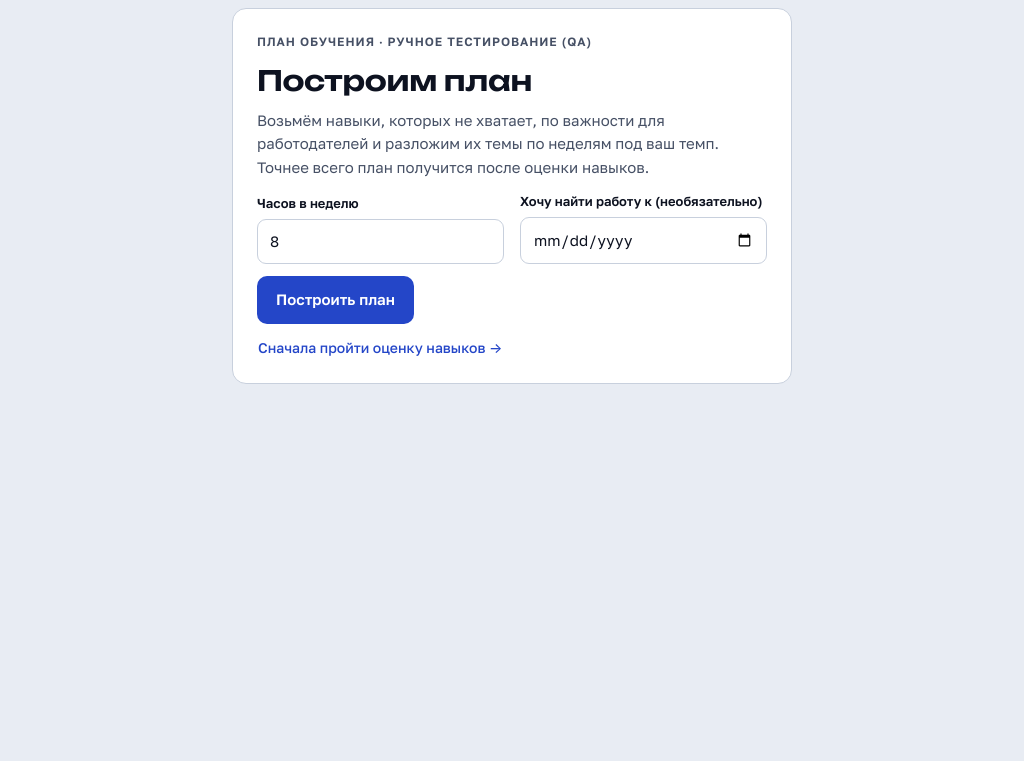
Test: PlanPage › плана нет — форма с часами из профиля строит план
Replace the text in the number field labelled "Часов в неделю" with "50" at point(380, 242), box x1=257 y1=219 x2=504 y2=264
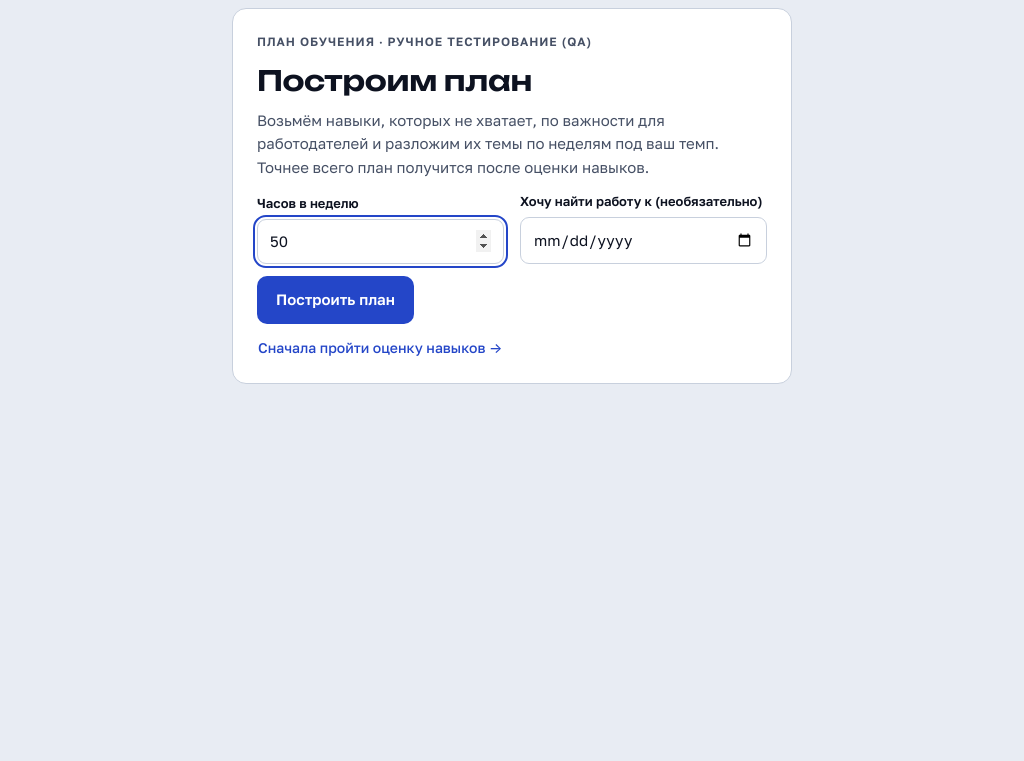
Click the button "Построить план".
click(335, 300)  # box x1=257 y1=276 x2=414 y2=324
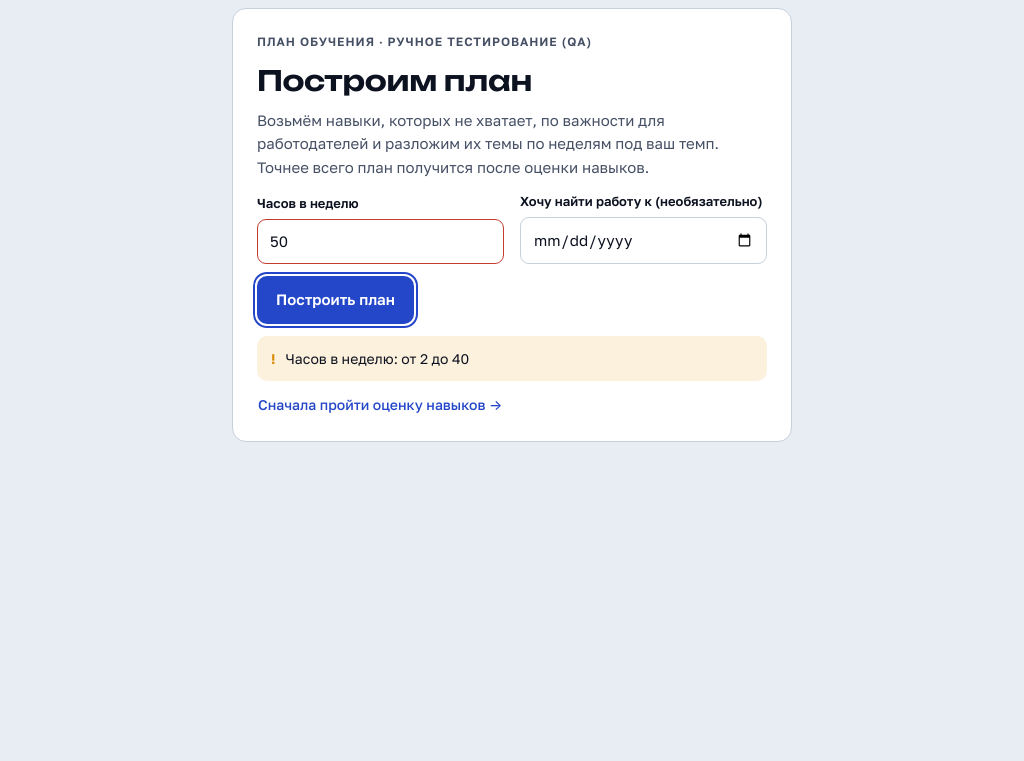
Check: the message shows "от 2 до 40", box x1=286 y1=350 x2=469 y2=367
Replace the text in the number field labelled "Часов в неделю" with "12" at point(380, 242), box x1=257 y1=219 x2=504 y2=264
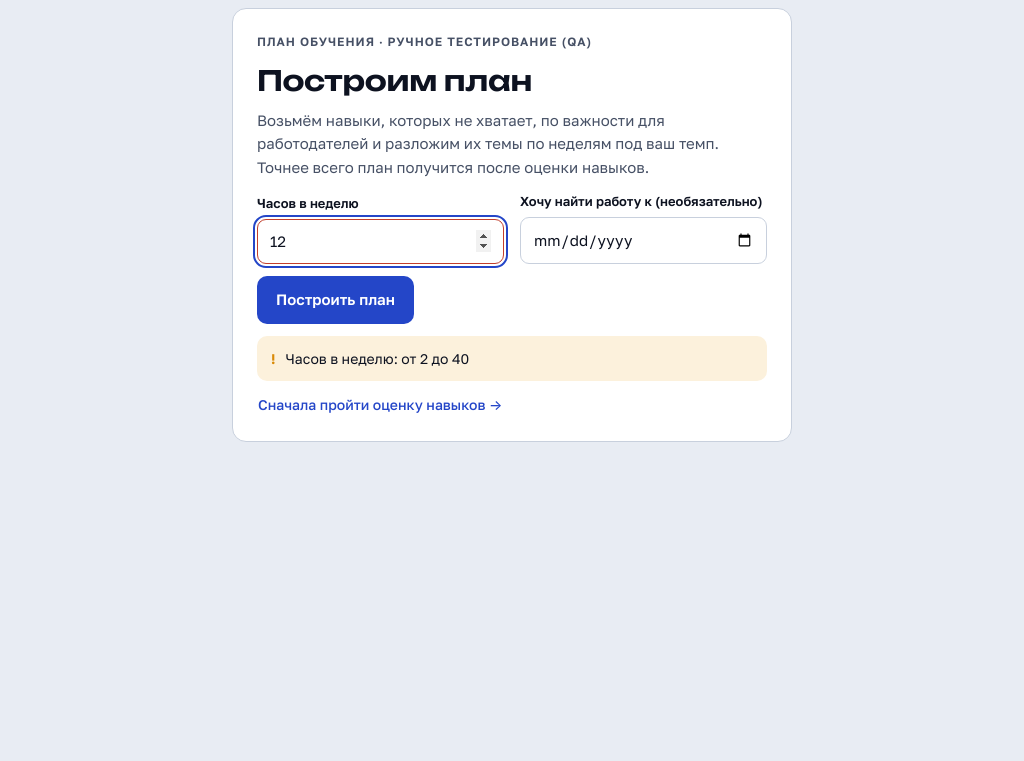
Click the button "Построить план".
click(335, 300)  # box x1=257 y1=276 x2=414 y2=324
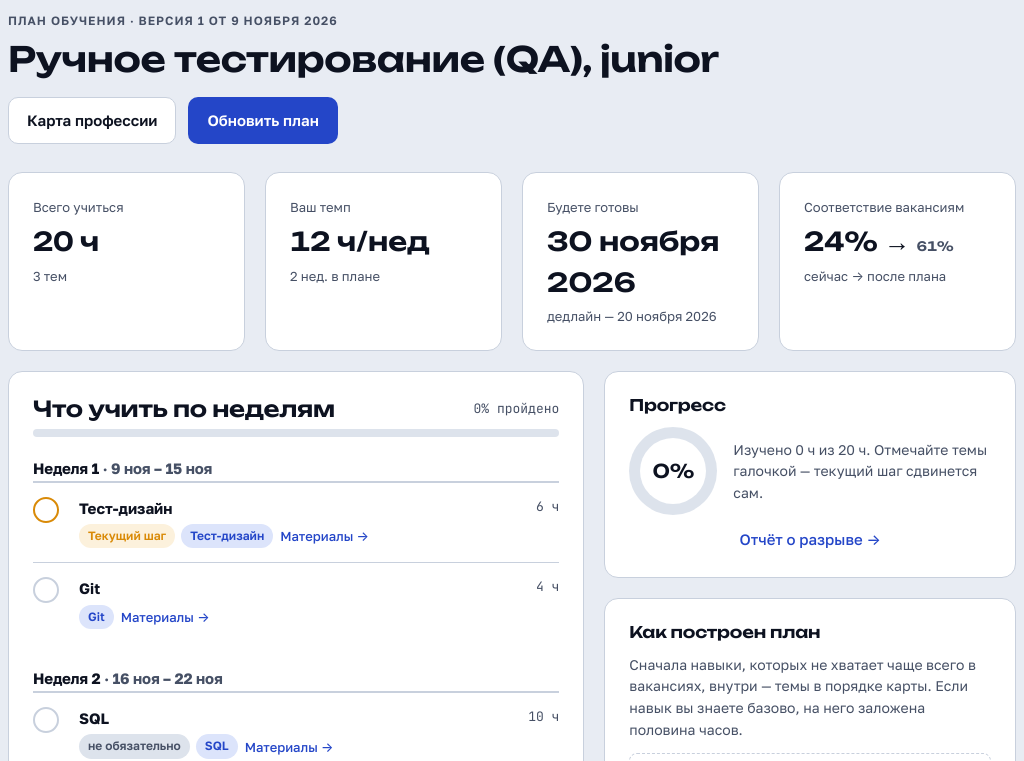
Check: the heading "Неделя 1 · 9 ноя – 15 ноя" is shown, box x1=33 y1=450 x2=559 y2=482
